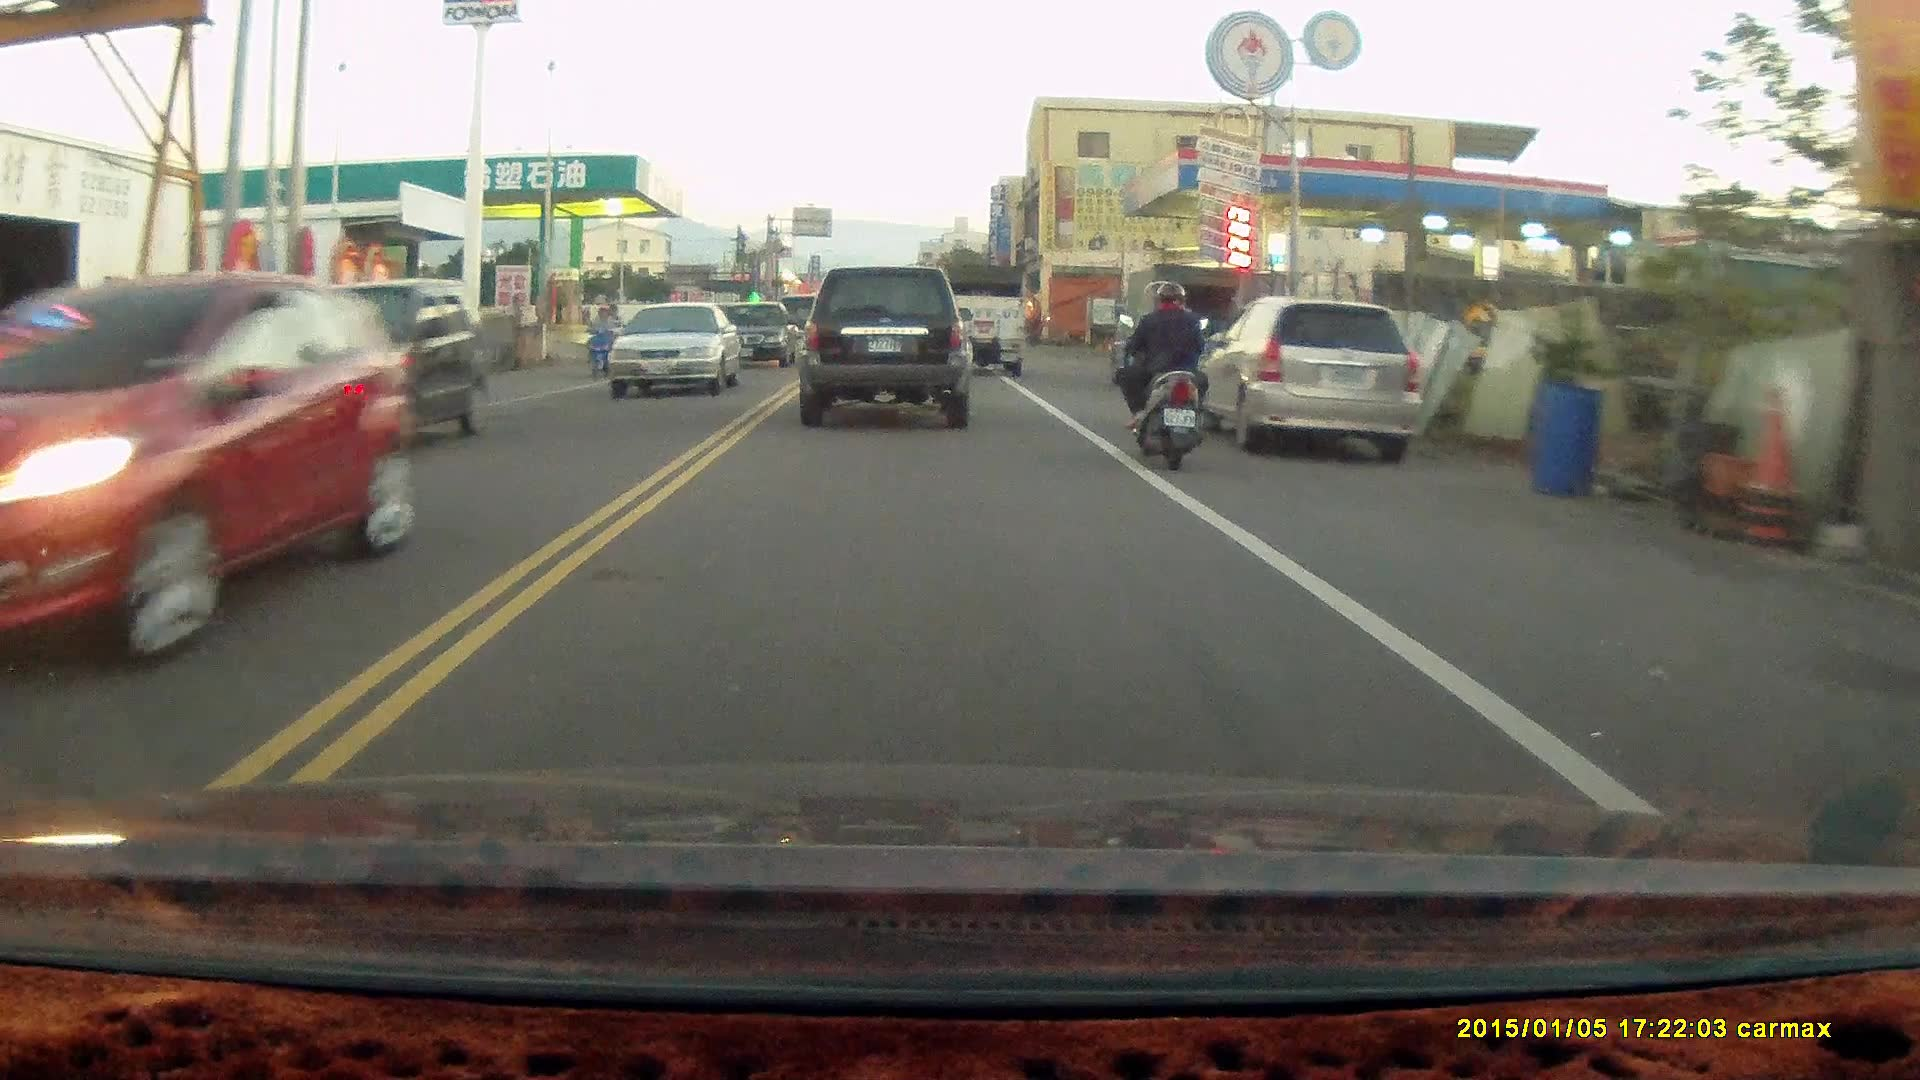rider: (1113, 276, 1210, 465), (581, 301, 627, 382)
vehicle: (1, 267, 421, 671), (237, 275, 487, 462), (1205, 294, 1432, 466), (794, 265, 972, 430), (1110, 261, 1244, 383), (605, 301, 745, 397), (938, 259, 1024, 376), (718, 300, 800, 367)
